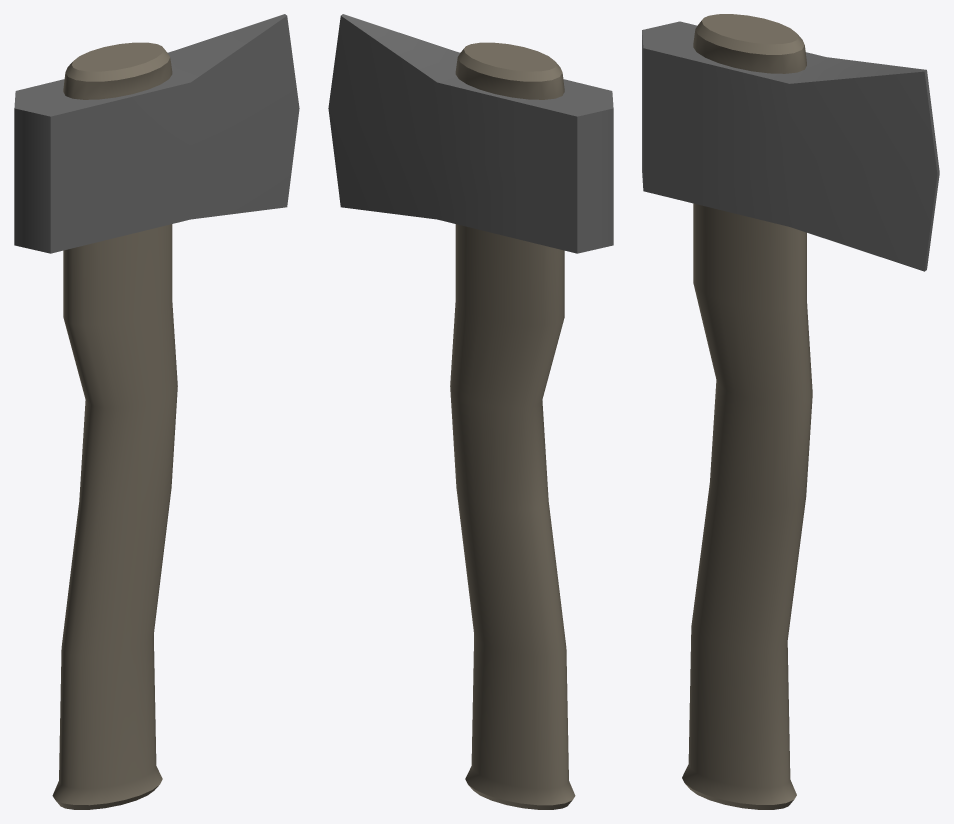
Rendered from Axe_FBX.fbx.
3 renders of one model, left to right at view 1: azimuth 30°, elevation 25°; view 2: azimuth 150°, elevation 25°; view 3: azimuth 330°, elevation 25°, orthographic. The views are drawn at different scales.
Parts seen in each view (by area): view 1: pCube4; view 2: pCube4; view 3: pCube4.
Boxes of the visible parts, left/top/right/bottom form: pCube4: left=14, top=14, right=299, bottom=809; pCube4: left=328, top=14, right=613, bottom=809; pCube4: left=642, top=14, right=939, bottom=809.
Size of the model in its own units: 53 by 131 by 11.33.
